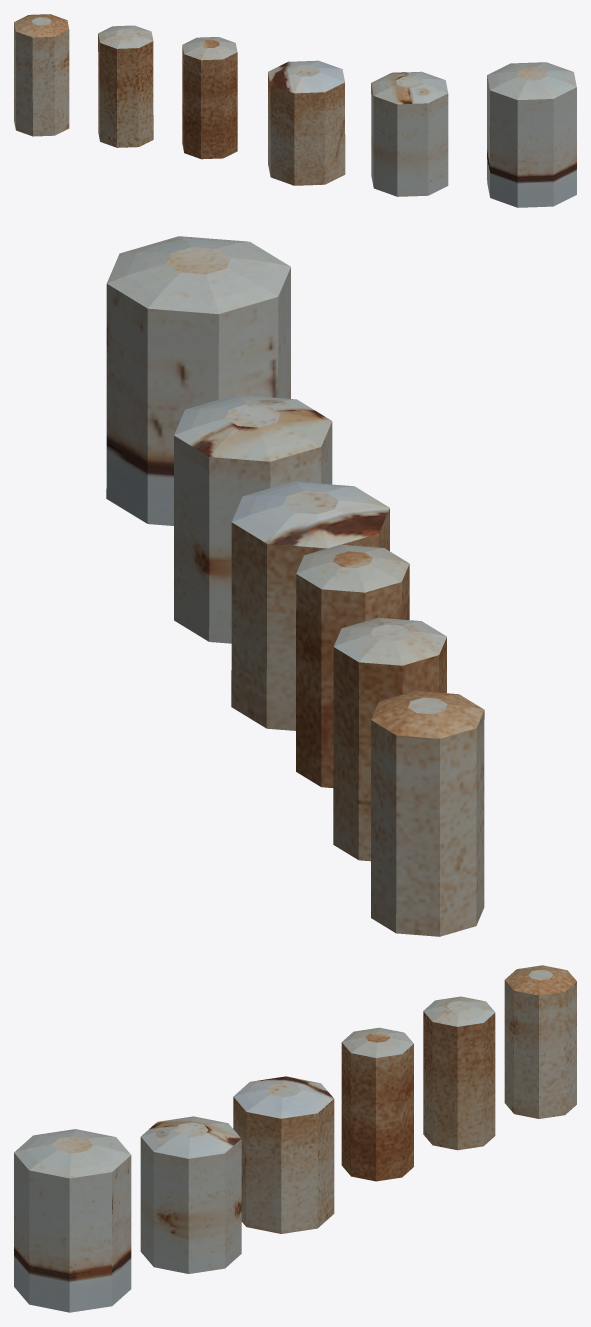
The model's file is youguan_01_13.fbx.
3 renders of one model, top to bottom at view 1: azimuth 30°, elevation 25°; view 2: azimuth 150°, elevation 25°; view 3: azimuth 270°, elevation 25°, orthographic. The views are drawn at different scales.
Visible parts, largest first — view 1: Youguan_01_13; view 2: Youguan_01_13; view 3: Youguan_01_13.
Boxes of the visible parts, x1,y1,x2,y2 form: Youguan_01_13: (14, 14, 576, 207); Youguan_01_13: (106, 236, 484, 936); Youguan_01_13: (14, 965, 576, 1312).
Size of the model in its own units: 2214 by 708 by 2352.
